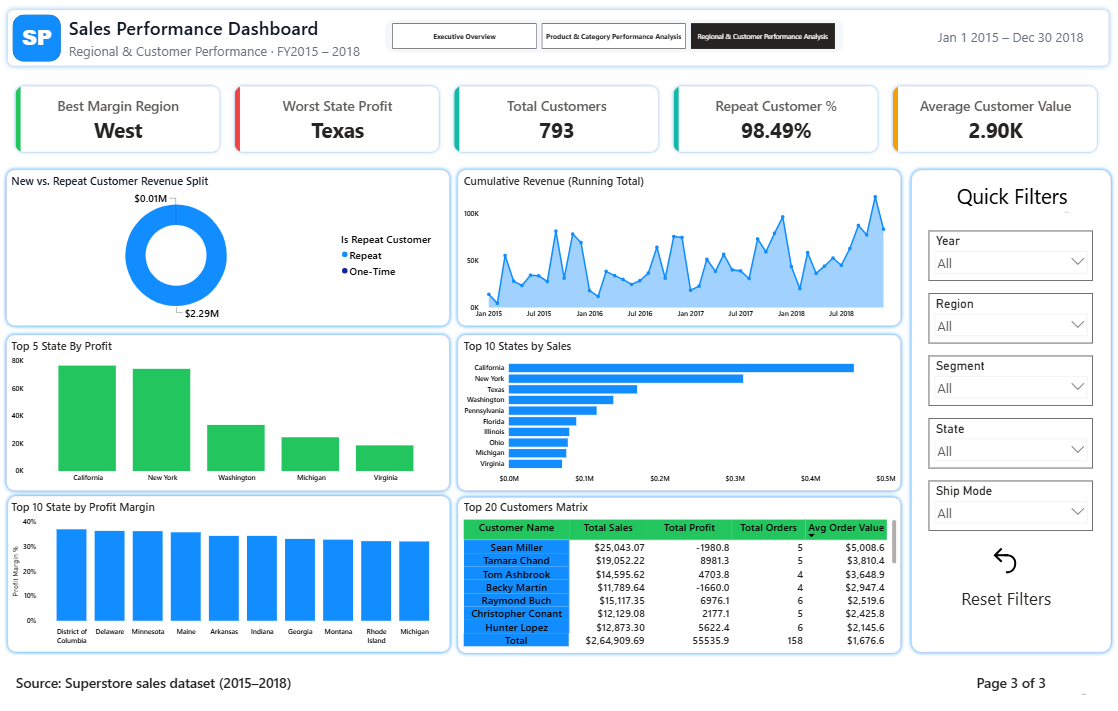

Layout of this report page (visuals, bound fields, positions):
{"tool":"powerbi","page":{"name":"Regional & Customer Performance Analysis","canvas":[2200,1400],"ordinal":2},"visuals":[{"type":"shape","box":[15.6,15.6,2168.9,130],"z":0},{"type":"shape","box":[33.7,33.7,94.4,92.2],"z":1000},{"type":"textbox","title":"SP","box":[33.7,49.5,94.4,60.7],"z":2000},{"type":"textbox","title":"Sales Performance Dashboard","box":[140,35,620,90],"z":3000},{"type":"textbox","title":"Jan 1 2015 – Dec 30 2018","box":[1822.5,61.2,320,31.2],"z":4000},{"type":"shape","box":[760,45,895,65],"z":5000},{"type":"shape","box":[1780,330,405,957.5],"z":9000},{"type":"textbox","title":"Quick Filters","box":[1867.5,360,232.5,65],"z":10000},{"type":"slicer","fields":{"Values":["Superstore_Cleaned.Order_Year"]},"box":[1822.5,455,320,97.5],"z":11000},{"type":"cardVisual","fields":{"Data":["Superstore_Cleaned.Best Margin Region Name","Superstore_Cleaned.Worst State Profit Name","Superstore_Cleaned.Total Customers","Superstore_Cleaned.Repeat Customer %","Superstore_Cleaned.Average Customer Value"]},"box":[11.2,146.2,2167.7,184.4],"z":12000},{"type":"shape","box":[15,330,880,320],"z":13000},{"type":"actionButton","box":[1930,1067.5,82.5,62.5],"z":14000},{"type":"textbox","title":"Reset Filters","box":[1870,1150,205,50],"z":15000},{"type":"shape","box":[895,330,880,320],"z":16000},{"type":"donutChart","title":"New vs. Repeat Customer Revenue Split","fields":{"Y":["Superstore_Cleaned.Total Sales"],"Category":["Superstore_Cleaned.Is Repeat Customer"]},"box":[28,343.3,855.3,292],"z":17000},{"type":"shape","box":[16.7,966.7,878.3,320],"z":18000},{"type":"shape","box":[895,650,880,320],"z":19000},{"type":"shape","box":[15,650,880,320],"z":20000},{"type":"areaChart","title":"Cumulative Revenue (Running Total)","fields":{"Y":["Superstore_Cleaned.Running Total Sales"],"Category":["Superstore_Cleaned.Order Date.Variation.Date Hierarchy.Year","Superstore_Cleaned.Order Date.Variation.Date Hierarchy.Month"]},"box":[908.8,343.1,853.1,294.4],"z":21000},{"type":"clusteredBarChart","title":"Top 10 States by Sales","fields":{"Y":["Superstore_Cleaned.Total Sales"],"Category":["Superstore_Cleaned.State"]},"box":[908.8,665.6,852.5,293.1],"z":22000},{"type":"clusteredColumnChart","title":"Top 5 State By Profit","fields":{"Category":["Superstore_Cleaned.State"],"Y":["Superstore_Cleaned.Total Profit"]},"box":[27.5,665.6,856.9,291.2],"z":23000},{"type":"slicer","fields":{"Values":["Superstore_Cleaned.Region"]},"box":[1822.5,577.5,320,97.5],"z":24000},{"type":"slicer","fields":{"Values":["Superstore_Cleaned.Category","Superstore_Cleaned.Segment"]},"box":[1822.5,700,320,97.5],"z":25000},{"type":"slicer","fields":{"Values":["Superstore_Cleaned.State"]},"box":[1822.5,822.5,320,97.5],"z":26000},{"type":"shape","box":[895,967.5,880,320],"z":26500},{"type":"slicer","fields":{"Values":["Superstore_Cleaned.Ship Mode"]},"box":[1822.5,945,320,97.5],"z":27000},{"type":"textbox","title":"Source: Superstore sales dataset (2015–2018)","box":[11.8,1318.4,594.3,42.5],"z":28000},{"type":"textbox","title":"Page 3 of 3","box":[1832.6,1318.4,301.9,47.2],"z":29000},{"type":"pivotTable","title":"Top 20 Customers Matrix","fields":{"Rows":["Superstore_Cleaned.Customer Name"],"Values":["Superstore_Cleaned.Total Sales","Superstore_Cleaned.Total Profit","Superstore_Cleaned.Total Orders","Superstore_Cleaned.Average Order Value"]},"box":[908.6,981.4,854.3,291.4],"z":30000},{"type":"clusteredColumnChart","title":"Top 10 State by Profit Margin ","fields":{"Category":["Superstore_Cleaned.State"],"Y":["Superstore_Cleaned.Profit Margin %"]},"box":[27.3,980.9,856.4,291.8],"z":32000},{"type":"pageNavigator","box":[775,51,864,50],"z":32001}]}

Visuals, with their boxes in screenshot pixels (x1, y1, x2, y2), scaled from the page's 2200x1400 canvas onto the 1118x711 screenshot:
shape: [x1=8, y1=8, x2=1110, y2=74]
shape: [x1=17, y1=17, x2=65, y2=64]
"SP" textbox: [x1=17, y1=25, x2=65, y2=56]
"Sales Performance Dashboard" textbox: [x1=71, y1=18, x2=386, y2=63]
"Jan 1 2015 – Dec 30 2018" textbox: [x1=926, y1=31, x2=1089, y2=47]
shape: [x1=386, y1=23, x2=841, y2=56]
shape: [x1=905, y1=168, x2=1110, y2=654]
"Quick Filters" textbox: [x1=949, y1=183, x2=1067, y2=216]
slicer - Superstore_Cleaned.Order_Year: [x1=926, y1=231, x2=1089, y2=281]
cardVisual - Superstore_Cleaned.Best Margin Region Name x Superstore_Cleaned.Worst State Profit Name: [x1=6, y1=74, x2=1107, y2=168]
shape: [x1=8, y1=168, x2=455, y2=330]
actionButton: [x1=981, y1=542, x2=1023, y2=574]
"Reset Filters" textbox: [x1=950, y1=584, x2=1054, y2=609]
shape: [x1=455, y1=168, x2=902, y2=330]
"New vs. Repeat Customer Revenue Split" donutChart: [x1=14, y1=174, x2=449, y2=323]
shape: [x1=8, y1=491, x2=455, y2=653]
shape: [x1=455, y1=330, x2=902, y2=493]
shape: [x1=8, y1=330, x2=455, y2=493]
"Cumulative Revenue (Running Total)" areaChart: [x1=462, y1=174, x2=895, y2=324]
"Top 10 States by Sales" clusteredBarChart: [x1=462, y1=338, x2=895, y2=487]
"Top 5 State By Profit" clusteredColumnChart: [x1=14, y1=338, x2=449, y2=486]
slicer - Superstore_Cleaned.Region: [x1=926, y1=293, x2=1089, y2=343]
slicer - Superstore_Cleaned.Category x Superstore_Cleaned.Segment: [x1=926, y1=356, x2=1089, y2=405]
slicer - Superstore_Cleaned.State: [x1=926, y1=418, x2=1089, y2=467]
shape: [x1=455, y1=491, x2=902, y2=654]
slicer - Superstore_Cleaned.Ship Mode: [x1=926, y1=480, x2=1089, y2=529]
"Source: Superstore sales dataset (2015–2018)" textbox: [x1=6, y1=670, x2=308, y2=691]
"Page 3 of 3" textbox: [x1=931, y1=670, x2=1085, y2=694]
"Top 20 Customers Matrix" pivotTable: [x1=462, y1=498, x2=896, y2=646]
"Top 10 State by Profit Margin " clusteredColumnChart: [x1=14, y1=498, x2=449, y2=646]
pageNavigator: [x1=394, y1=26, x2=833, y2=51]
